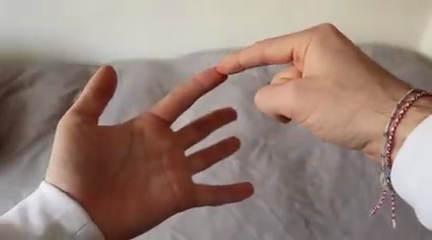E: (38, 19, 379, 228)
